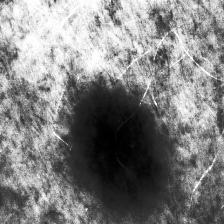Benign Marking or Mole: (68, 86, 166, 211)
